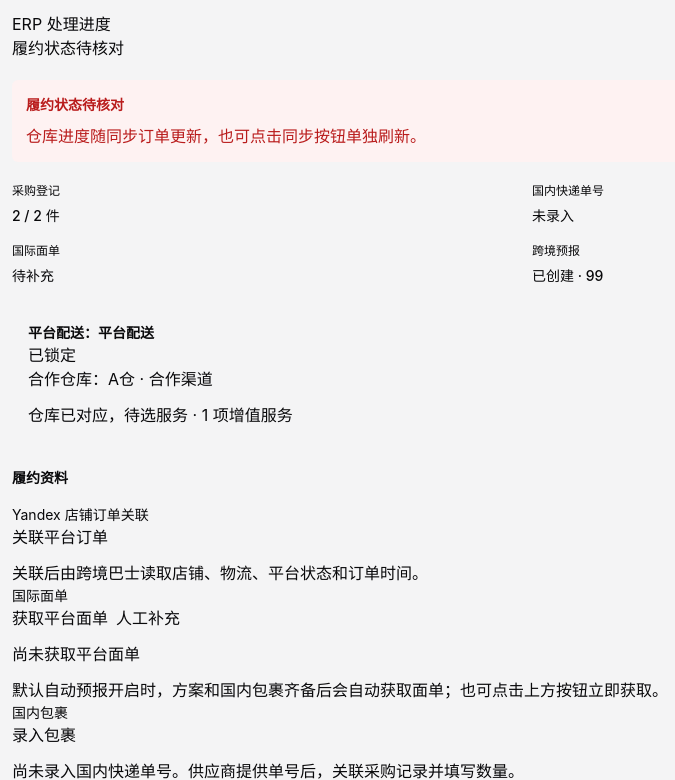
Test case: 跨境履约操作 › 已创建报单可关联平台订单，使用当前版本且关联成功后不重复提供按钮
Click the button "关联平台订单" at {"x": 60, "y": 537}, box [12,525,108,549]
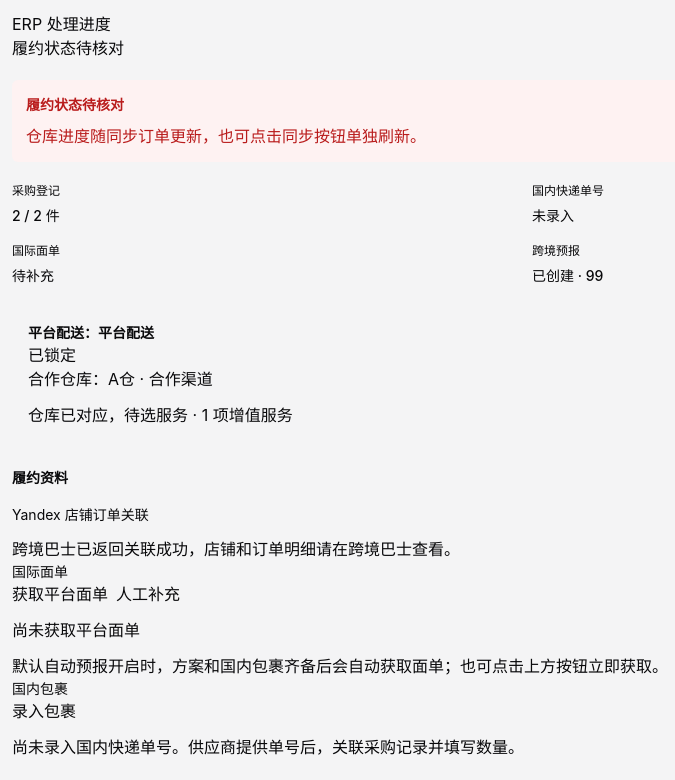
Expected: the text "跨境巴士已返回关联成功" is shown, [12,539,460,559]
